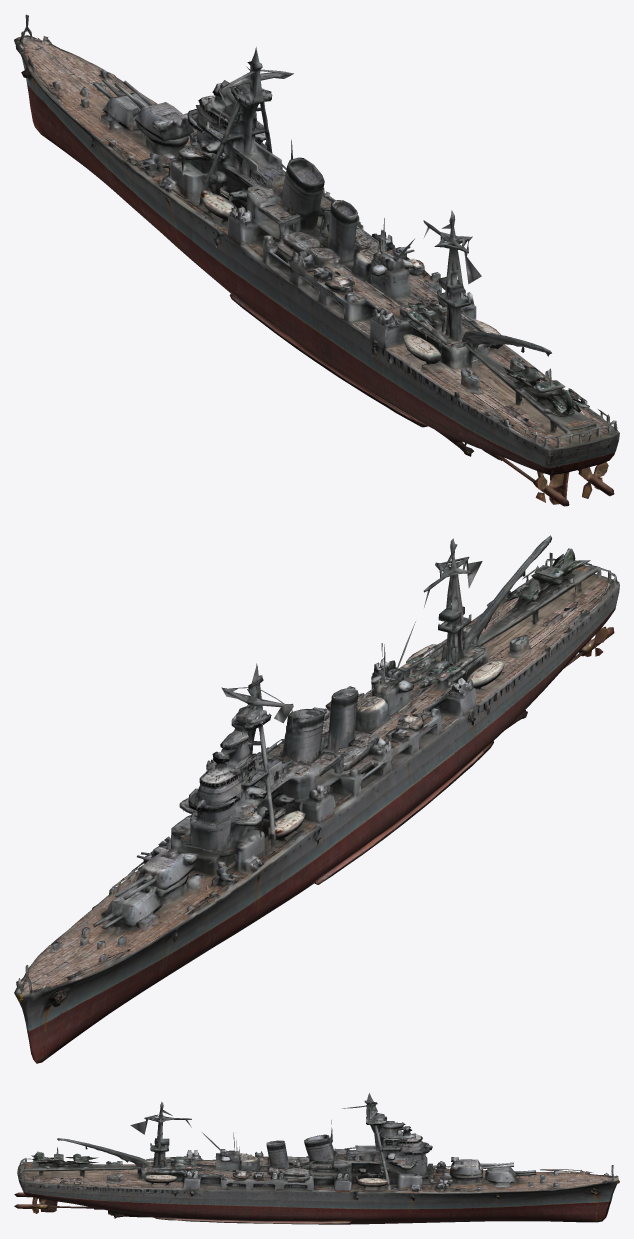
Rendered from destroyer.kagero.glb.
3 views of the same model, one above another, from view 1: azimuth 30°, elevation 25°; view 2: azimuth 150°, elevation 25°; view 3: azimuth 270°, elevation 25° (orthographic). The views are drawn at different scales.
Parts seen in each view (by area): view 1: tripo_node_698d41d2-344e-4c08-bba5-3f60f872b042; view 2: tripo_node_698d41d2-344e-4c08-bba5-3f60f872b042; view 3: tripo_node_698d41d2-344e-4c08-bba5-3f60f872b042.
Part boxes in pixels (<box>): tripo_node_698d41d2-344e-4c08-bba5-3f60f872b042: <box>14,14,619,506</box>; tripo_node_698d41d2-344e-4c08-bba5-3f60f872b042: <box>14,535,619,1063</box>; tripo_node_698d41d2-344e-4c08-bba5-3f60f872b042: <box>14,1093,619,1224</box>.
Bounding box in the file's own units: 12.43 × 28 × 118.
Materials: 1 (1 with a texture image).
